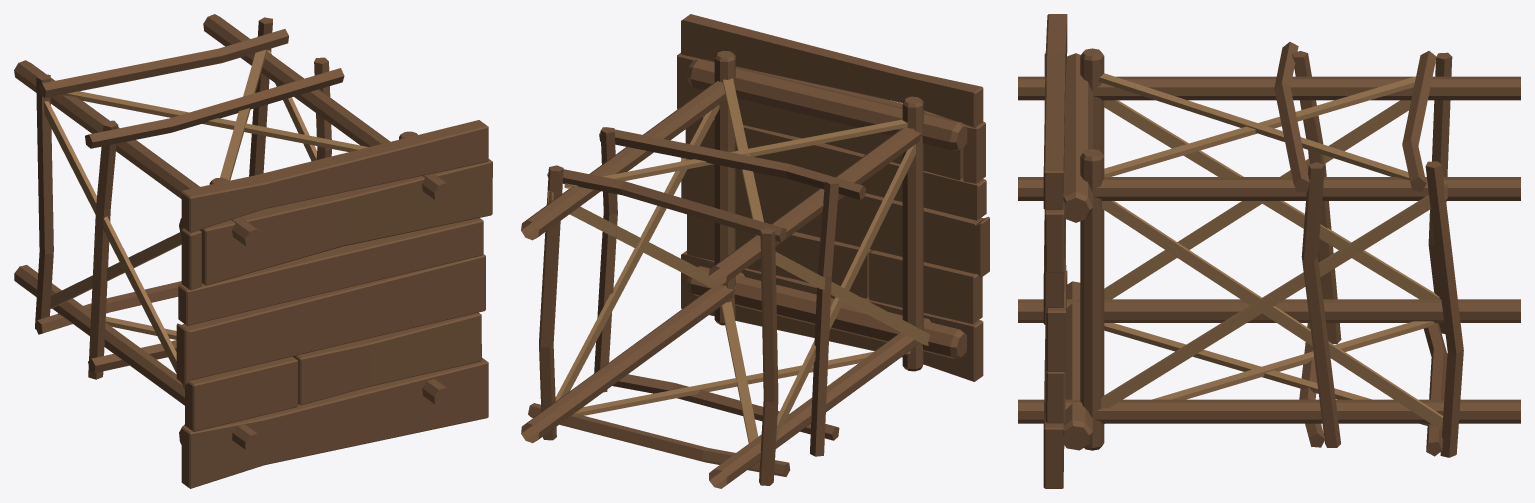
The model's file is Tower_03.fbx.
The picture shows the model from 3 angles, left to right: view 1: azimuth 30°, elevation 25°; view 2: azimuth 150°, elevation 25°; view 3: azimuth 270°, elevation 25°; orthographic projection. The views are drawn at different scales.
Parts seen in each view (by area): view 1: tour.002; view 2: tour.002; view 3: tour.002.
Boxes of the visible parts, x1=… form: tour.002: x1=14, y1=14, x2=492, y2=488; tour.002: x1=521, y1=14, x2=989, y2=488; tour.002: x1=1018, y1=14, x2=1520, y2=488.
Bounding box in the file's own units: 323 × 292 × 419.
